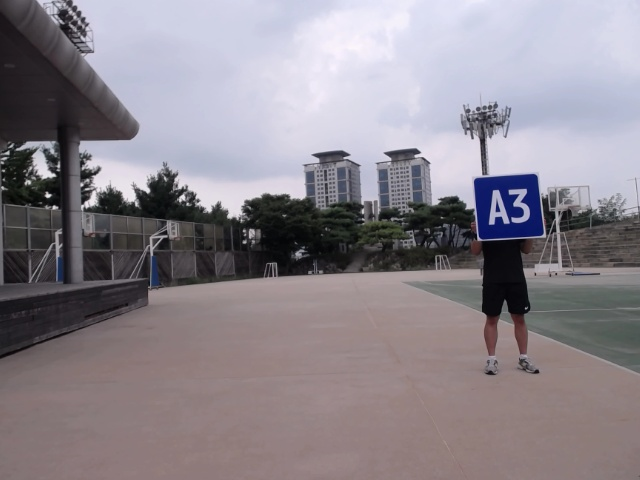delivery_a3: (473, 173, 544, 241)
